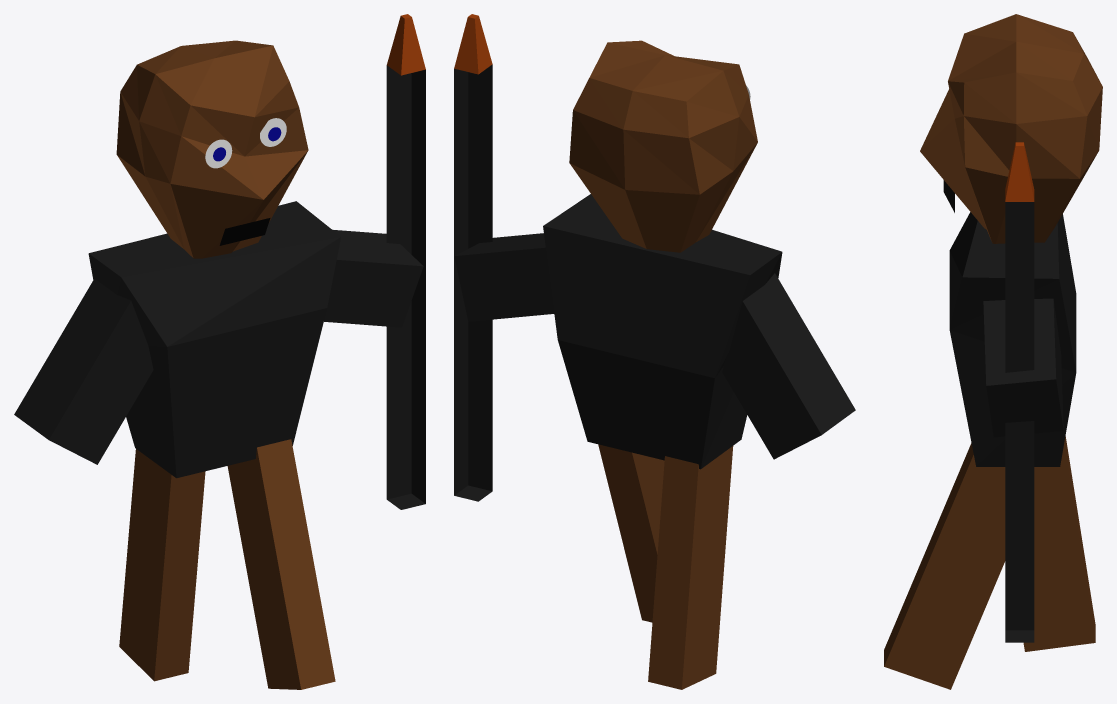
File: spearman2.obj
The picture shows the model from 3 angles, left to right: view 1: azimuth 30°, elevation 25°; view 2: azimuth 150°, elevation 25°; view 3: azimuth 270°, elevation 25°; orthographic projection. The views are drawn at different scales.
Parts seen in each view (by area): view 1: Cube.001, Cube, Cube.007, Cube.005, Cube.004, Cube.003, Cube.002, Plane; view 2: Cube.001, Cube, Cube.007, Cube.004, Cube.003, Cube.002, Cube.005; view 3: Cube, Cube.005, Cube.001, Cube.007, Cube.004, Cube.002.
Part boxes in pixels (x1,y1,x2,y2): Cube.001: (88, 201, 340, 478); Cube: (116, 40, 308, 258); Cube.007: (386, 14, 425, 509); Cube.005: (227, 439, 335, 689); Cube.004: (119, 449, 205, 681); Cube.003: (14, 278, 153, 464); Cube.002: (324, 229, 423, 327); Plane: (219, 218, 270, 245); Cube.001: (543, 194, 782, 469); Cube: (569, 40, 757, 252); Cube.007: (454, 14, 492, 501); Cube.004: (648, 446, 733, 689); Cube.003: (722, 273, 855, 459); Cube.002: (454, 233, 554, 321); Cube.005: (598, 444, 664, 622); Cube: (920, 14, 1102, 243); Cube.005: (884, 443, 1044, 689); Cube.001: (949, 212, 1076, 466); Cube.007: (1005, 142, 1034, 642); Cube.004: (1023, 436, 1095, 651); Cube.002: (983, 298, 1063, 437).
Bounding box in the file's own units: 3.88 × 5.89 × 1.88.
